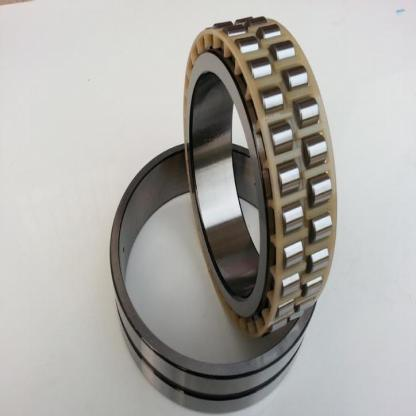FOD: (102, 10, 340, 413)
